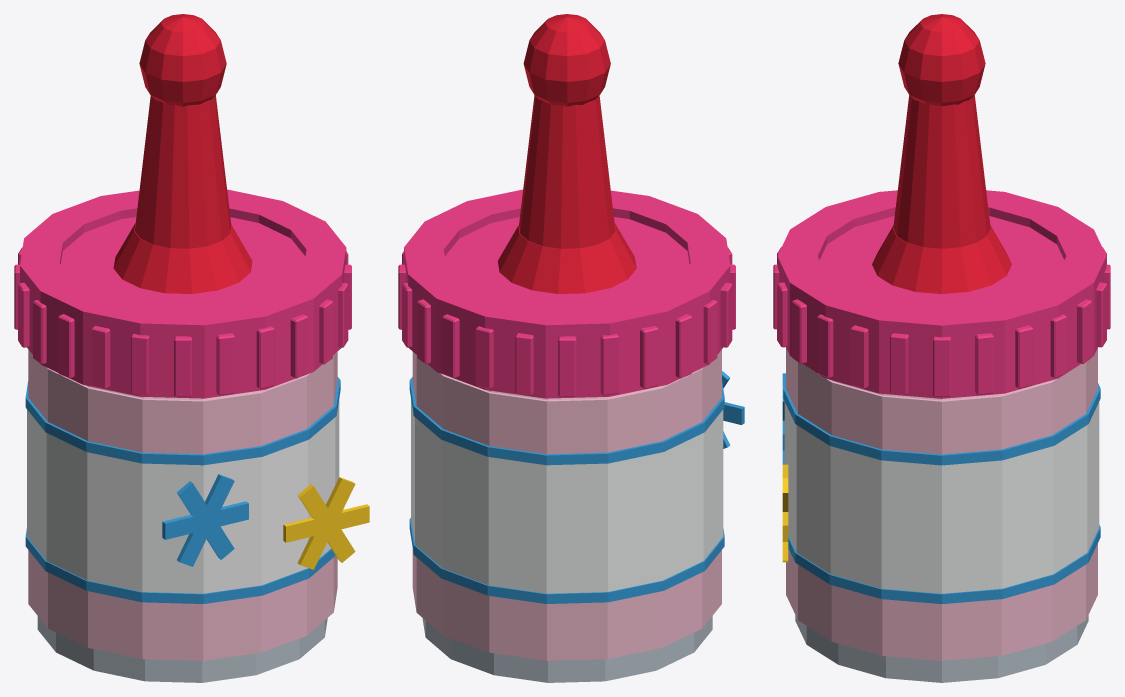
File: SourFizz.glb
The picture shows the model from 3 angles, left to right: view 1: azimuth 30°, elevation 25°; view 2: azimuth 150°, elevation 25°; view 3: azimuth 270°, elevation 25°; orthographic projection.
Parts seen in each view (by area): view 1: SourFizz; view 2: SourFizz; view 3: SourFizz.
Part boxes in pixels (<box>): SourFizz: <box>14,14,369,682</box>; SourFizz: <box>398,14,744,682</box>; SourFizz: <box>773,14,1110,682</box>.
Size of the model in its own units: 0.5064 by 1 by 0.5064.
